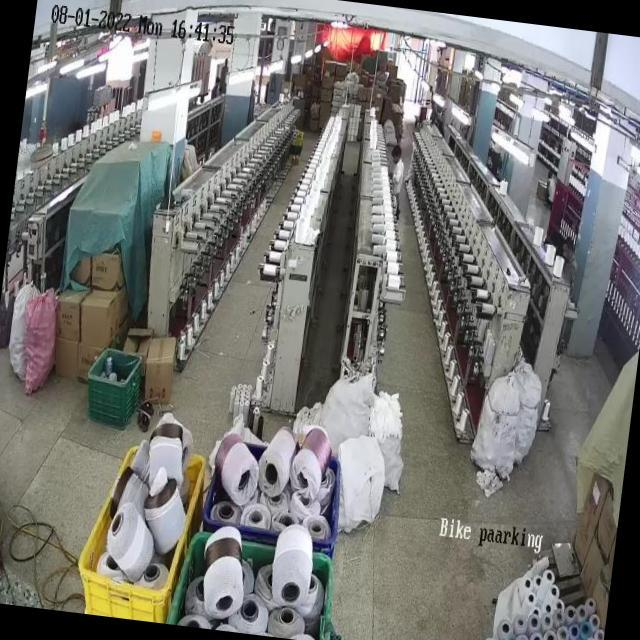person: (385, 145, 410, 220)
